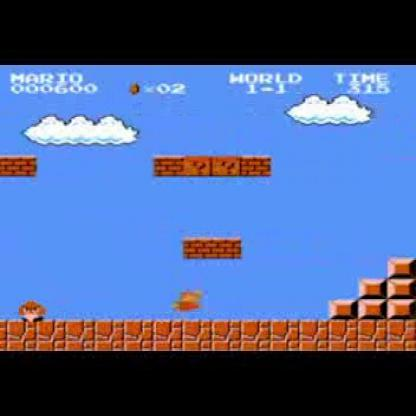Goomba: (19, 299, 46, 321)
